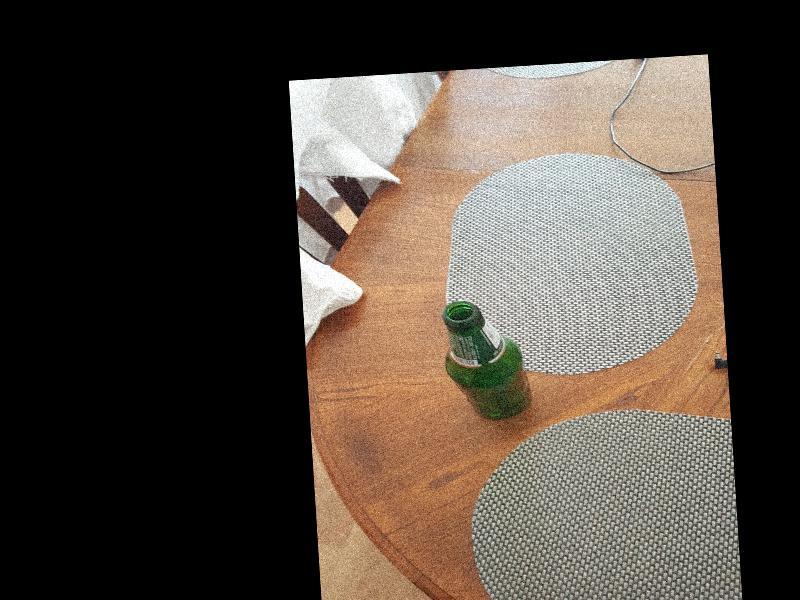Beer: (441, 297, 530, 424)
